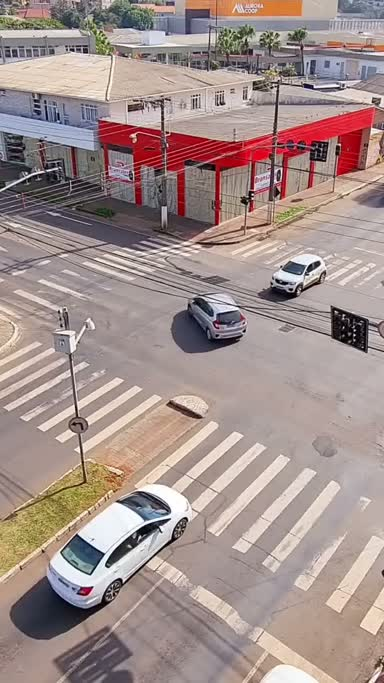car: (40, 484, 199, 614), (183, 287, 256, 351), (267, 248, 329, 304)
